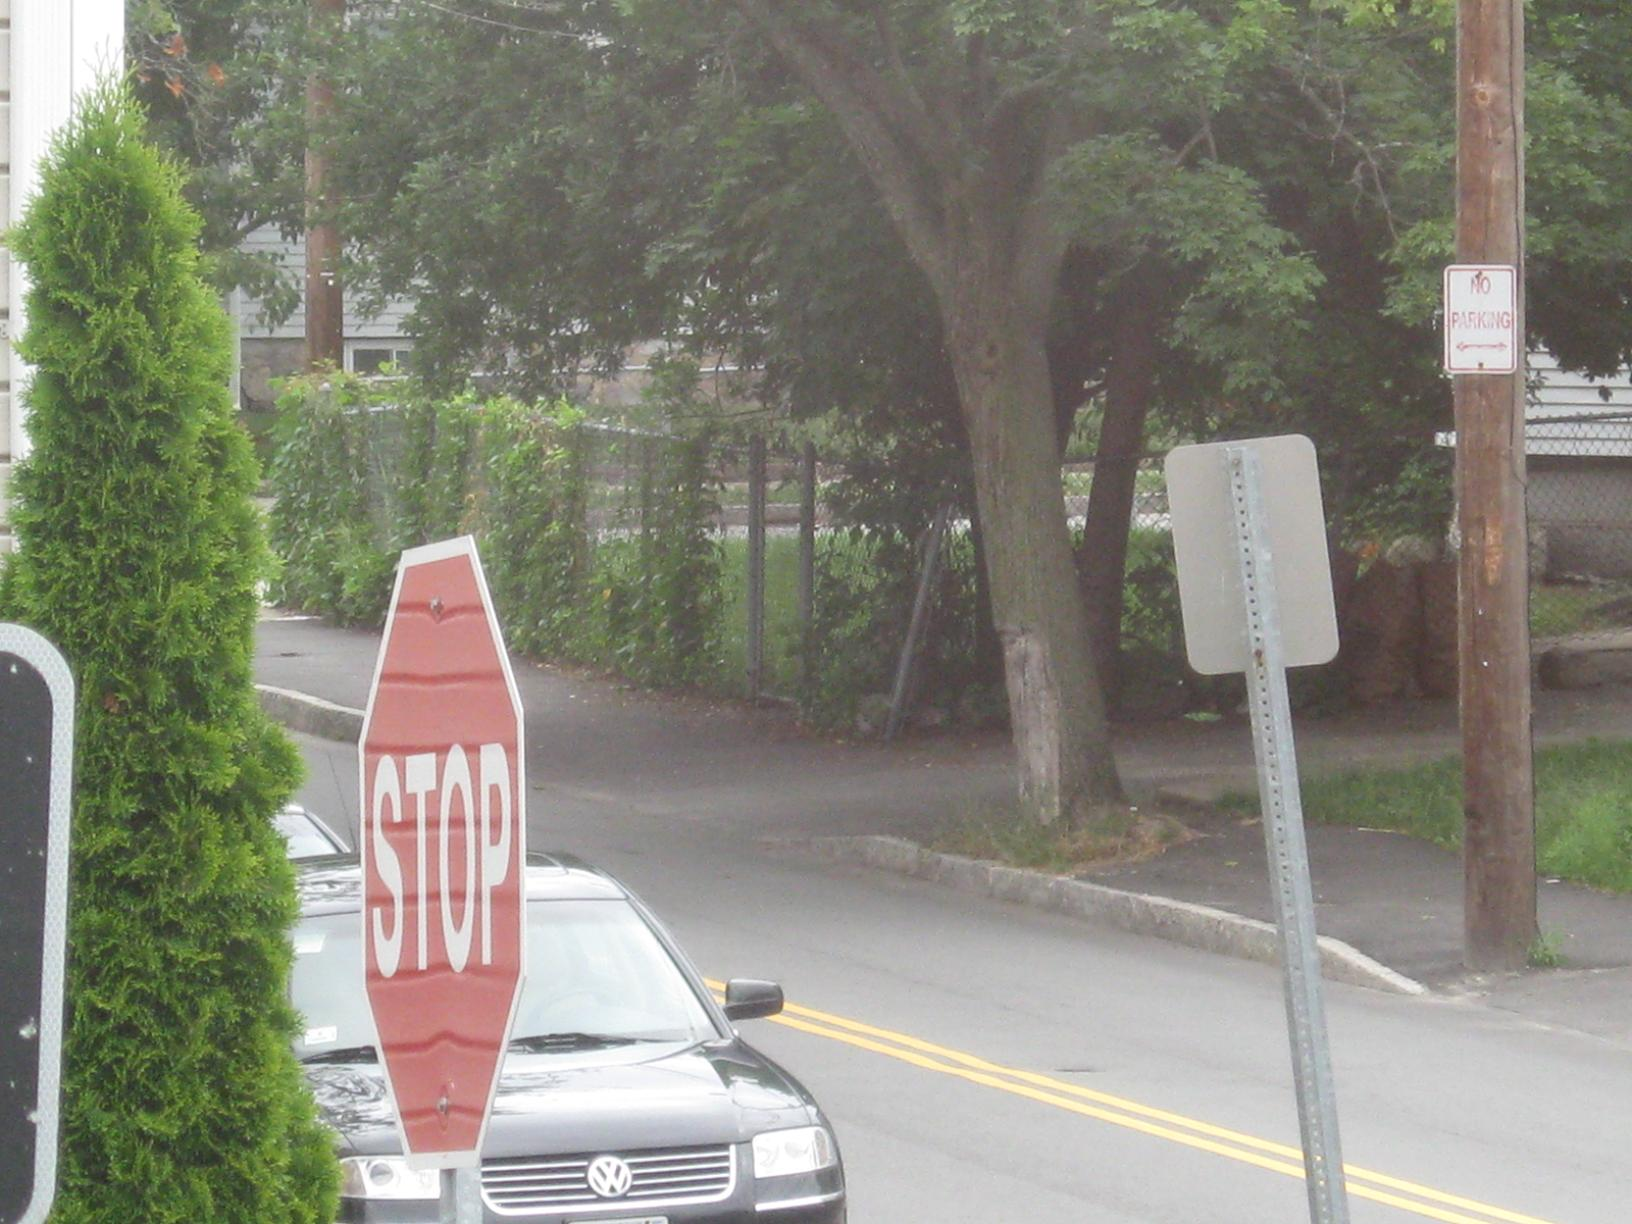car: (281, 809, 849, 1224)
stop: (360, 545, 526, 1151)
